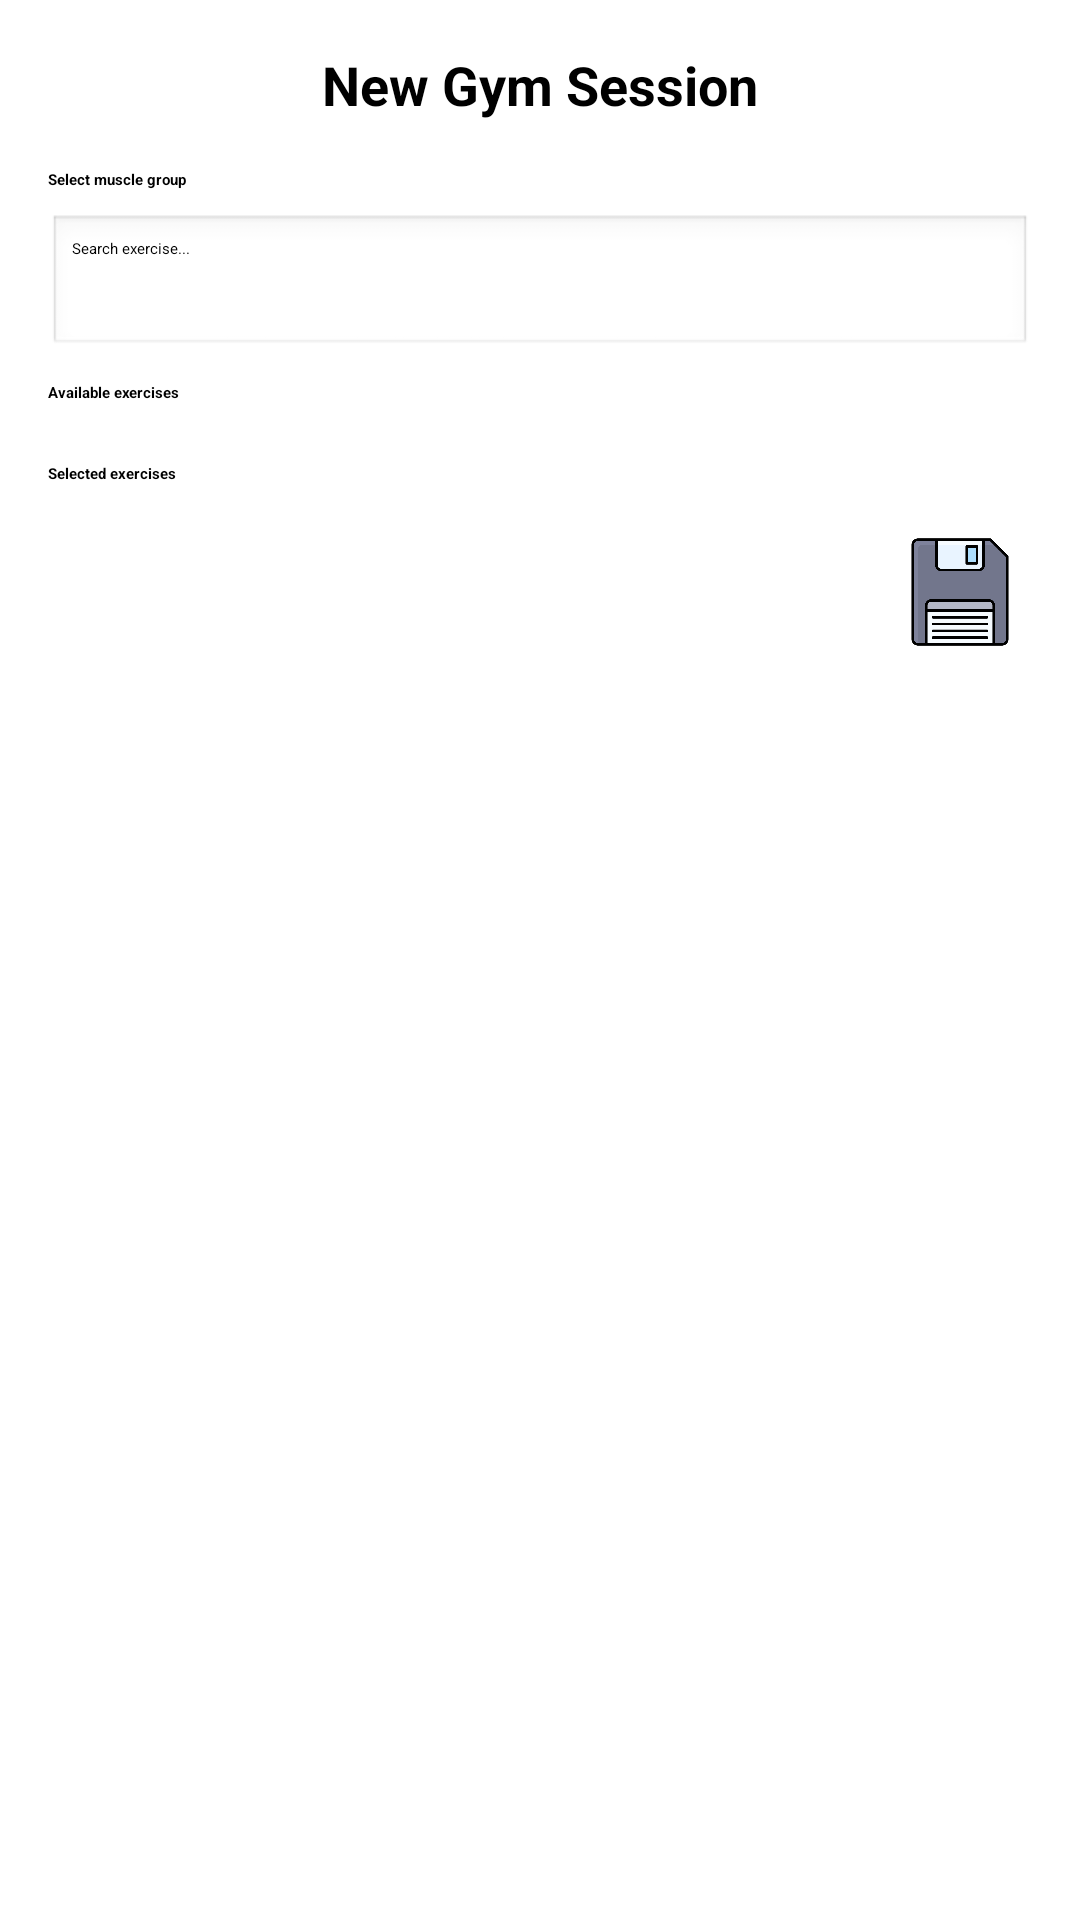

Icons on this 1080px×1920px Android screen, each with its box as (x1, y1, x2, y2):
Save session: (911, 538, 1009, 646)
